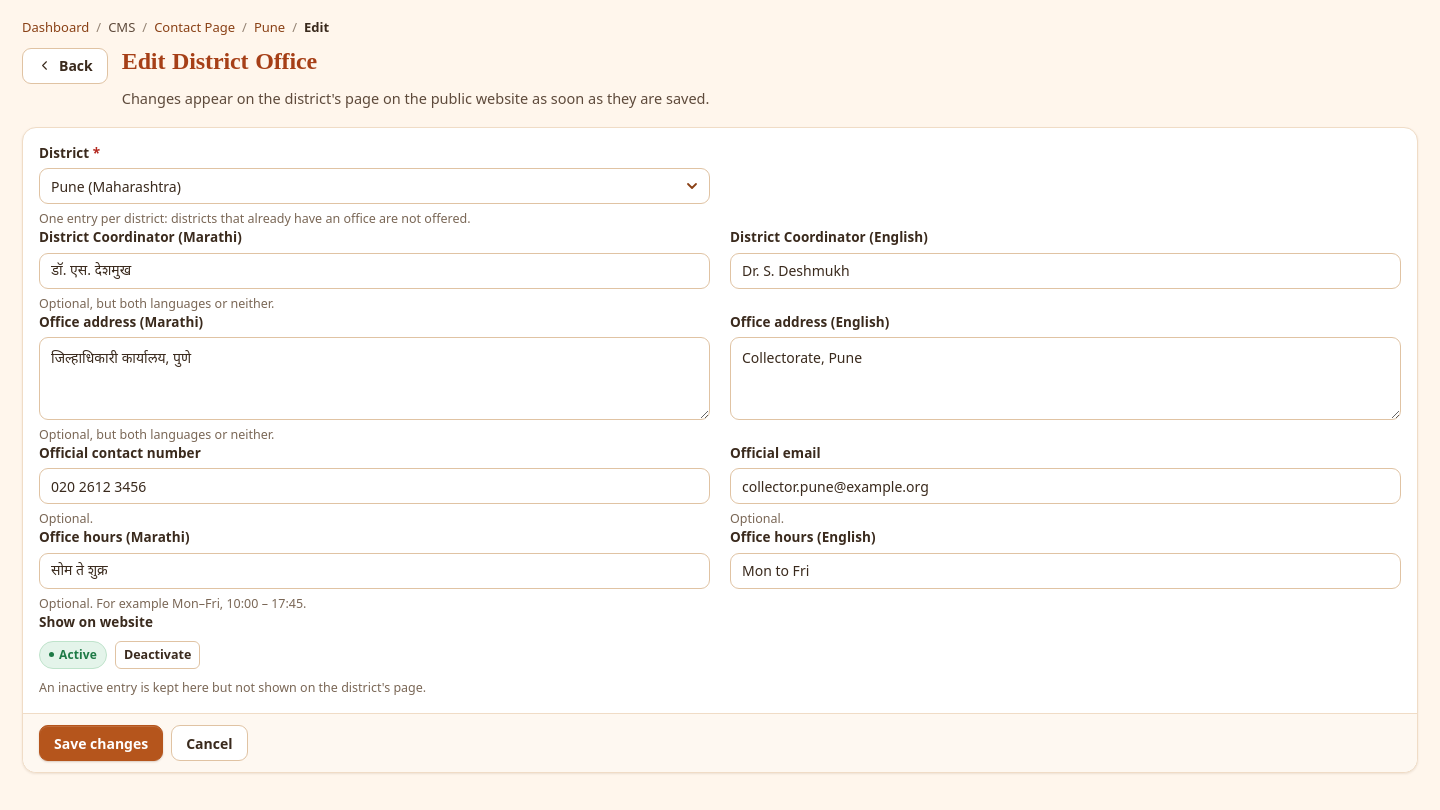
it: district office pages › Edit district office › puts the server's message about a whole pair on its Marathi half
The width and height of the screenshot is (1440, 810).
Click the button "Save changes": click(101, 743) top-left (39, 725), bottom-right (163, 761)
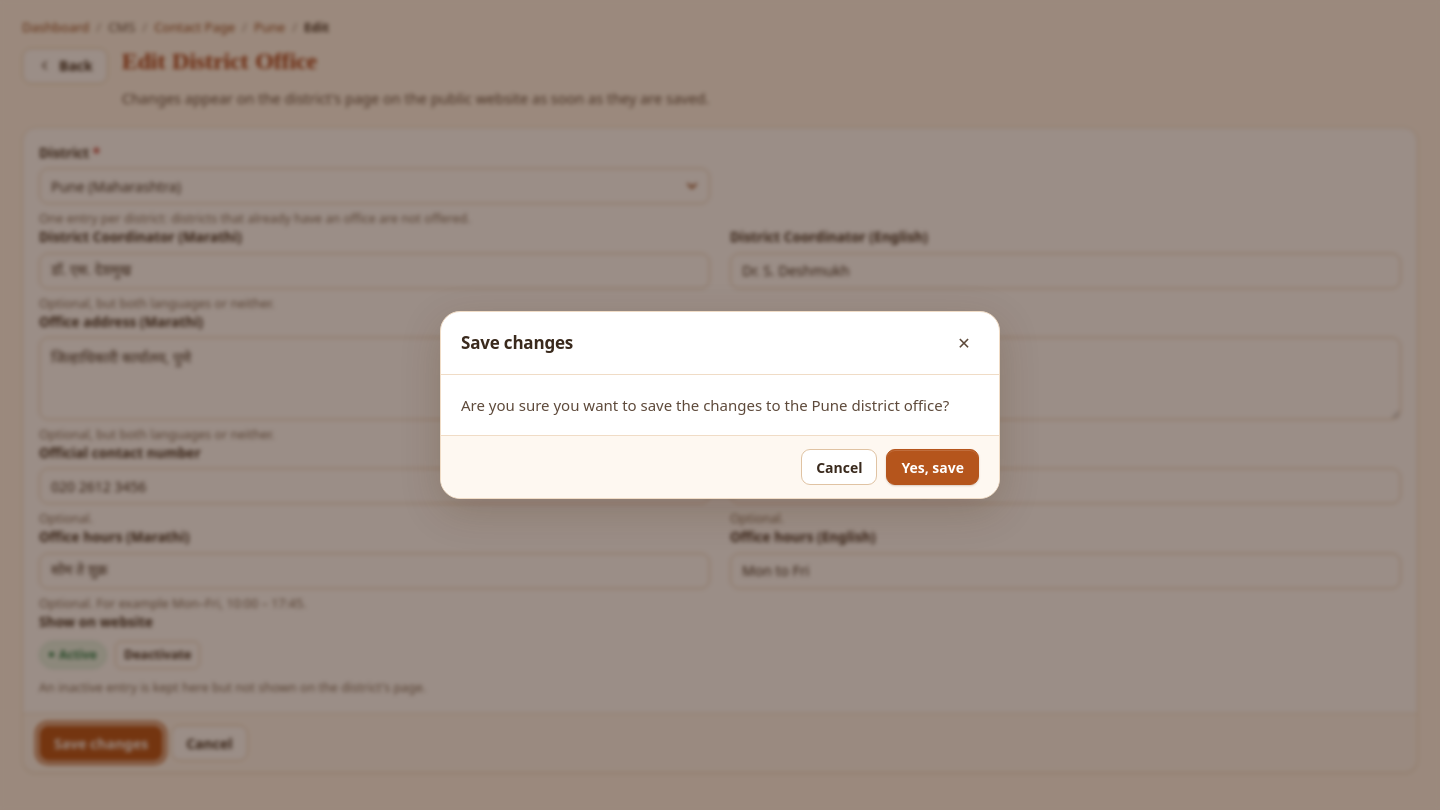
Click the button "Yes, save": click(933, 467) top-left (886, 449), bottom-right (979, 485)
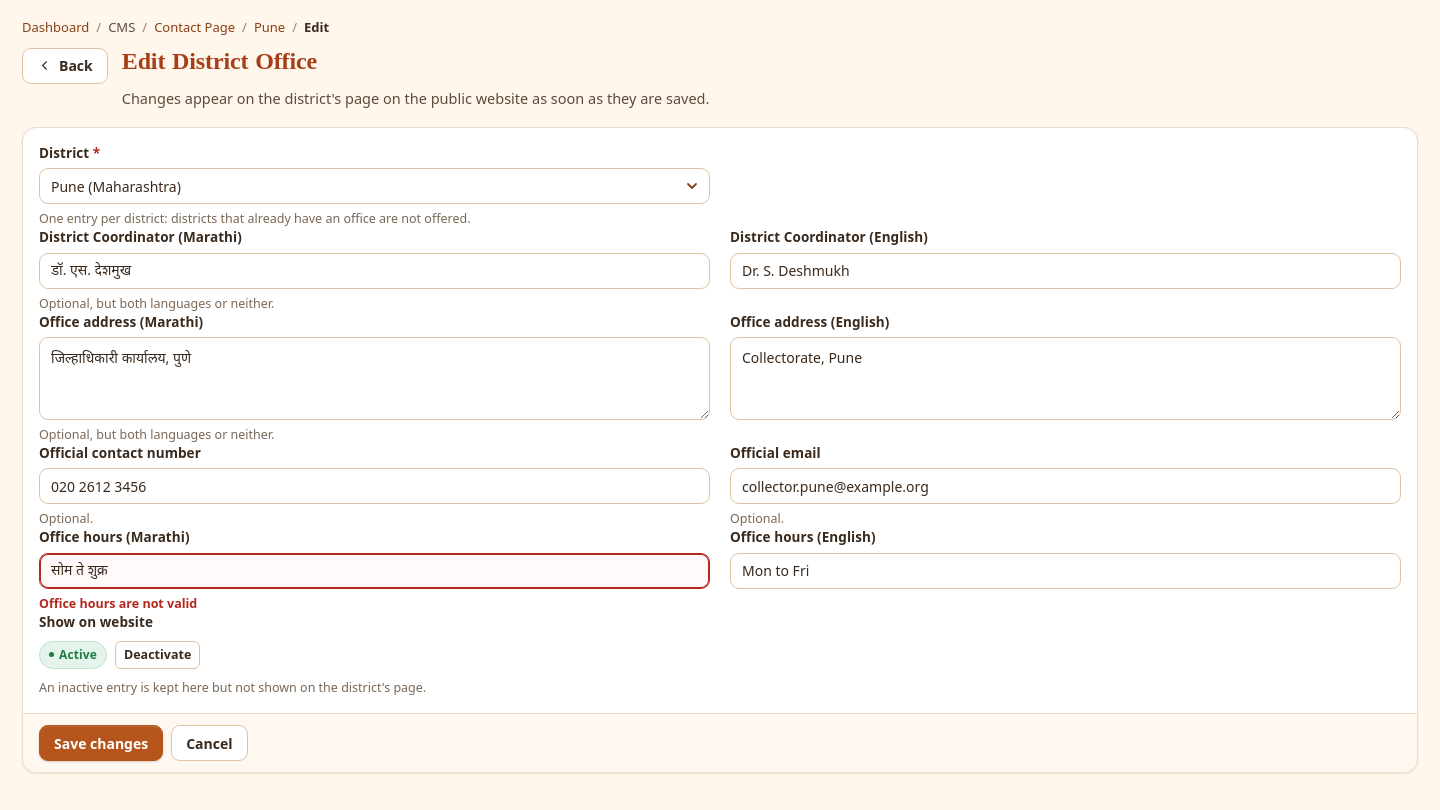
Now the text "Office hours are not valid" is shown, box top-left (39, 595), bottom-right (197, 612)
